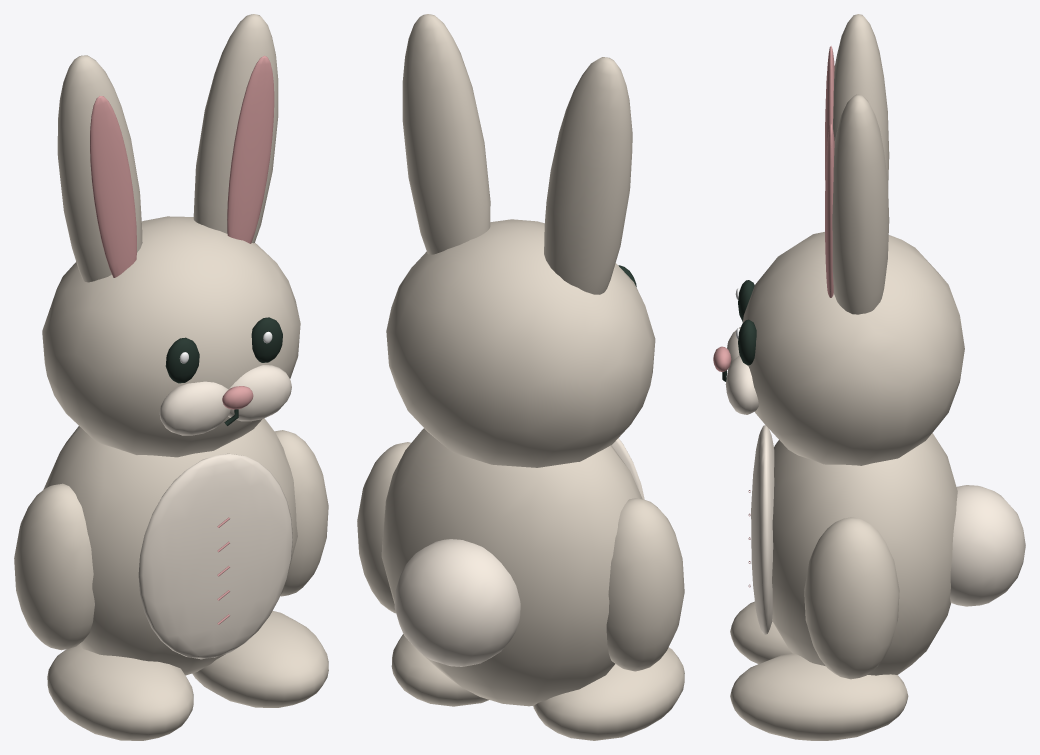
The model's file is rabbit.glb.
3 views of the same model, side by side, from view 1: azimuth 30°, elevation 25°; view 2: azimuth 150°, elevation 25°; view 3: azimuth 270°, elevation 25° (orthographic). The views are drawn at different scales.
Visible parts, largest first — view 1: Rabbit_Head, Rabbit_Belly, Rabbit_Body, Rabbit_Arm_-1, Rabbit_Foot_-1, Ear_Outer_-1, Ear_Outer_1, Rabbit_Foot_1, Ear_Inner_1, Ear_Inner_-1, Rabbit_Arm_1, Rabbit_Cheek_-1 (+4 smaller); view 2: Rabbit_Head, Rabbit_Body, Ear_Outer_-1, Ear_Outer_1, Rabbit_Tail, Rabbit_Arm_-1, Rabbit_Foot_-1, Rabbit_Arm_1, Rabbit_Foot_1; view 3: Rabbit_Head, Rabbit_Body, Rabbit_Arm_1, Rabbit_Foot_1, Ear_Outer_1, Rabbit_Tail, Ear_Outer_-1, Rabbit_Belly, Rabbit_Foot_-1, Rabbit_Cheek_1, Ear_Inner_1, Ear_Inner_-1 (+1 smaller).
Part boxes in pixels (box(x1,y1,x2,y2)): Rabbit_Head: box(42, 216, 300, 457); Rabbit_Belly: box(138, 453, 292, 659); Rabbit_Body: box(43, 418, 297, 675); Rabbit_Arm_-1: box(14, 483, 94, 650); Rabbit_Foot_-1: box(47, 644, 193, 740); Ear_Outer_-1: box(57, 55, 142, 282); Ear_Outer_1: box(193, 14, 278, 243); Rabbit_Foot_1: box(192, 611, 328, 707); Ear_Inner_1: box(227, 55, 274, 243); Ear_Inner_-1: box(90, 96, 136, 277); Rabbit_Arm_1: box(274, 430, 328, 596); Rabbit_Cheek_-1: box(159, 381, 230, 435); Rabbit_Head: box(386, 219, 655, 467); Rabbit_Body: box(381, 428, 642, 706); Ear_Outer_-1: box(544, 57, 632, 294); Ear_Outer_1: box(402, 14, 490, 254); Rabbit_Tail: box(394, 539, 520, 666); Rabbit_Arm_-1: box(606, 498, 684, 671); Rabbit_Foot_-1: box(533, 647, 684, 740); Rabbit_Arm_1: box(357, 442, 410, 613); Rabbit_Foot_1: box(391, 634, 488, 706); Rabbit_Head: box(742, 232, 964, 465); Rabbit_Body: box(772, 433, 957, 675); Rabbit_Arm_1: box(804, 517, 899, 679); Rabbit_Foot_1: box(730, 653, 908, 740); Ear_Outer_1: box(832, 94, 889, 314); Rabbit_Tail: box(950, 485, 1025, 606); Ear_Outer_-1: box(833, 14, 889, 188); Rabbit_Belly: box(751, 425, 774, 634); Rabbit_Foot_-1: box(730, 601, 792, 663); Rabbit_Cheek_1: box(725, 355, 758, 414); Ear_Inner_1: box(825, 123, 834, 297); Ear_Inner_-1: box(825, 46, 834, 179).
Bounding box in the file's own units: 0.78 × 1.63 × 0.719.
